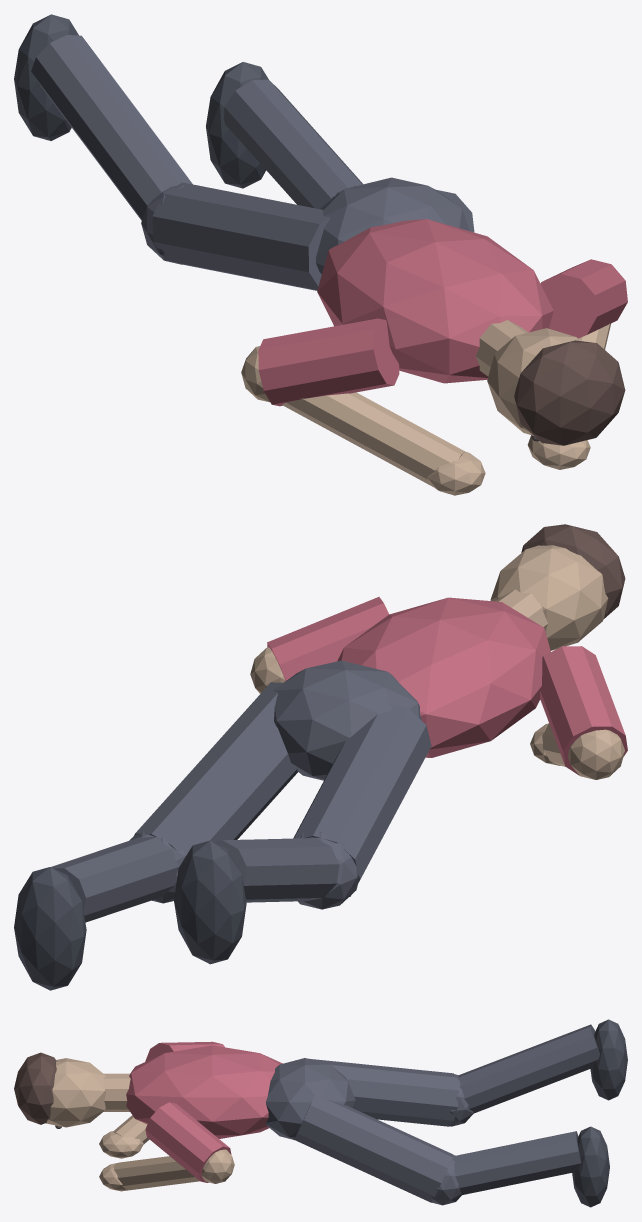
3 renders of one model, top to bottom at view 1: azimuth 30°, elevation 25°; view 2: azimuth 150°, elevation 25°; view 3: azimuth 270°, elevation 25°, orthographic. The views are drawn at different scales.
Parts seen in each view (by area): view 1: world; view 2: world; view 3: world.
Part boxes in pixels (bbox=[...]): world: bbox=[14, 14, 627, 495]; world: bbox=[14, 524, 627, 990]; world: bbox=[14, 1019, 627, 1207].
Size of the model in its own units: 0.93 by 0.4905 by 2.06.
